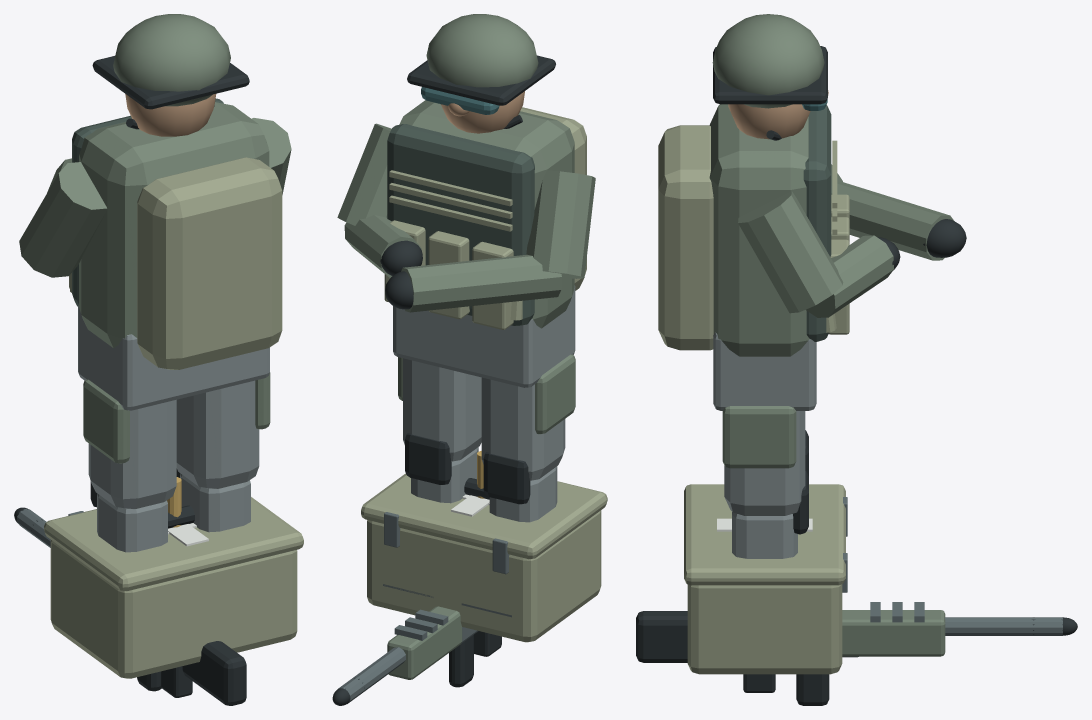
The model's file is survivor.glb.
3 renders of one model, left to right at view 1: azimuth 30°, elevation 25°; view 2: azimuth 150°, elevation 25°; view 3: azimuth 270°, elevation 25°, orthographic. The views are drawn at different scales.
Visible parts, largest first — view 1: AmmoBox_Webbing, Upper_Webbing, Upper_Field fabric, Waist, Thigh.001, Helmet, Thigh, Rifle_Rubber, Lower leg, Cargo pocket, Lower leg.001, Head_Rubber (+5 smaller); view 2: AmmoBox_Webbing, Upper_Field fabric, Carrier, Waist, Upper_Webbing, Helmet, Thigh.001, Thigh, Handguard, Head_Rubber, Cargo pocket, ShinL_Rubber (+11 smaller); view 3: Upper_Field fabric, AmmoBox_Webbing, Upper_Webbing, Helmet, Waist, Thigh.001, Cargo pocket.001, Handguard, Rifle_Rubber, Carrier, Lower leg.001, Scatter_Parkerized steel (+4 smaller).
Part boxes in pixels (x1,y1,x2,y2): AmmoBox_Webbing: (44, 497, 303, 678); Upper_Webbing: (69, 157, 282, 369); Upper_Field fabric: (19, 102, 291, 347); Waist: (78, 305, 269, 410); Thigh.001: (176, 380, 259, 488); Helmet: (113, 14, 230, 106); Thigh: (88, 373, 176, 509); Rifle_Rubber: (31, 519, 246, 705); Lower leg: (97, 493, 167, 552); Cargo pocket: (83, 379, 129, 463); Lower leg.001: (180, 473, 250, 532); Head_Rubber: (92, 56, 249, 129); AmmoBox_Webbing: (361, 473, 607, 642); Upper_Field fabric: (337, 100, 595, 328); Carrier: (387, 124, 534, 325); Waist: (393, 285, 575, 387); Upper_Webbing: (384, 107, 586, 329); Helmet: (426, 14, 538, 87); Thigh.001: (403, 358, 481, 461); Thigh: (481, 350, 565, 480); Handguard: (387, 606, 462, 679); Head_Rubber: (407, 55, 555, 128); Cargo pocket: (535, 354, 575, 434); ShinL_Rubber: (483, 452, 530, 504); Upper_Field fabric: (709, 104, 953, 356); AmmoBox_Webbing: (684, 484, 845, 674); Upper_Webbing: (658, 125, 849, 350); Helmet: (712, 14, 824, 108); Waist: (713, 332, 816, 410); Thigh.001: (724, 395, 805, 515); Cargo pocket.001: (722, 406, 796, 468); Handguard: (842, 610, 945, 656); Rifle_Rubber: (636, 611, 1035, 705); Carrier: (803, 104, 831, 341); Lower leg.001: (732, 512, 797, 558); Scatter_Parkerized steel: (870, 602, 1062, 635).
Bounding box in the file's own units: 0.7982 × 2.05 × 1.2.
